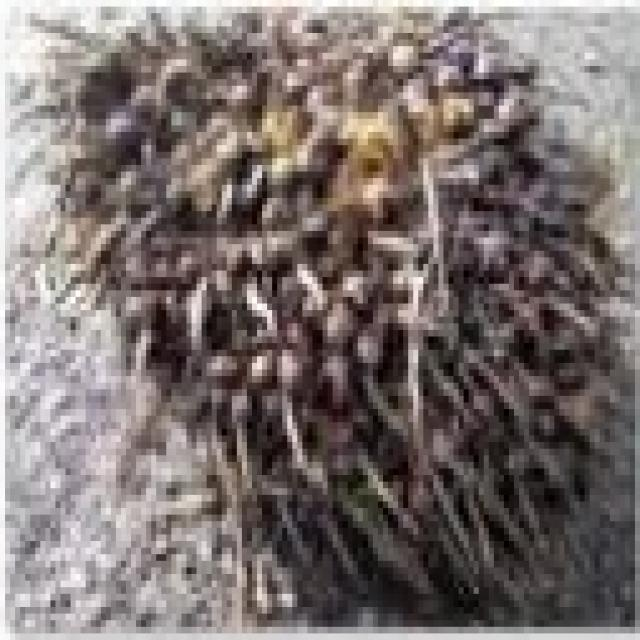FFB: (54, 18, 616, 609)
